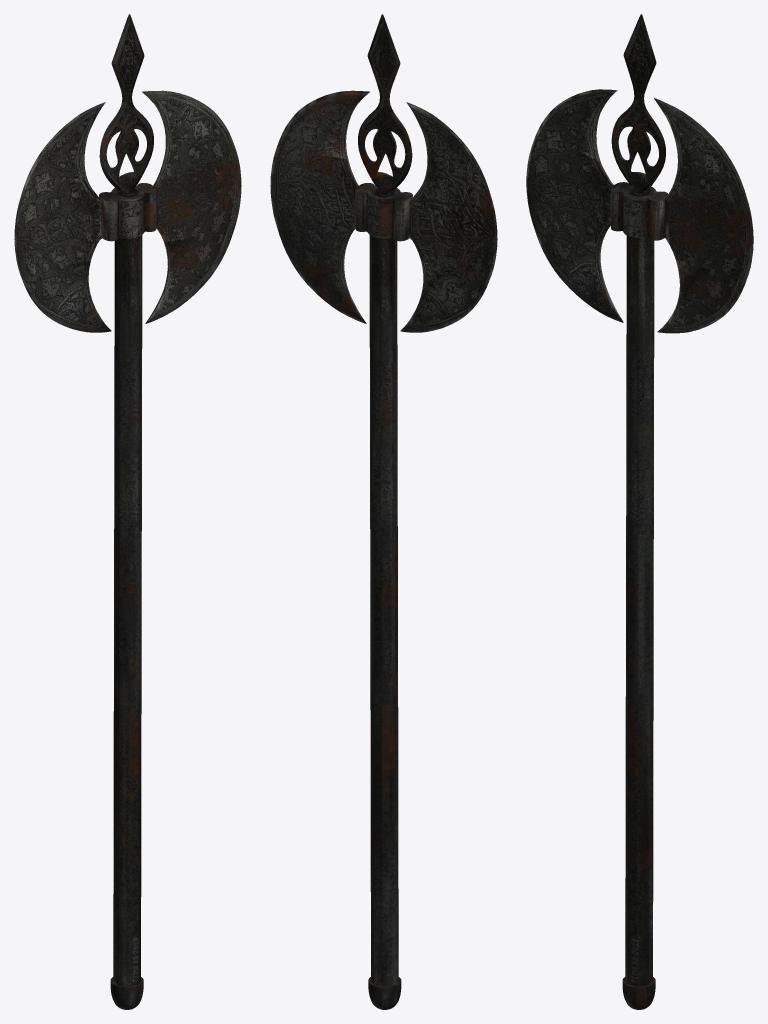
The model's file is double_axe.glb.
3 renders of one model, left to right at view 1: azimuth 30°, elevation 25°; view 2: azimuth 150°, elevation 25°; view 3: azimuth 330°, elevation 25°, orthographic.
Parts seen in each view (by area): view 1: double_axe; view 2: double_axe; view 3: double_axe.
Boxes of the visible parts, <box> form: double_axe: <box>14,14,241,1009</box>; double_axe: <box>270,14,497,1009</box>; double_axe: <box>526,14,753,1009</box>.
Size of the model in its own units: 0.2628 by 1.1 by 0.034.
Materials: 1 (1 with a texture image).
